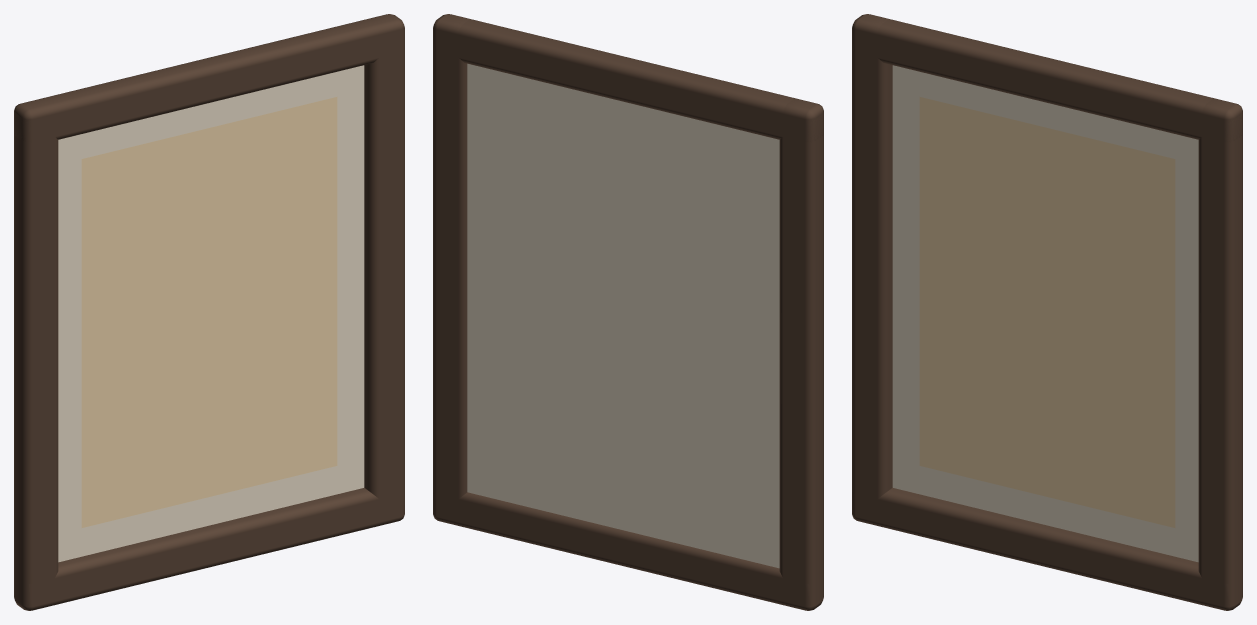
The model's file is frame.glb.
The picture shows the model from 3 angles, left to right: view 1: azimuth 30°, elevation 25°; view 2: azimuth 150°, elevation 25°; view 3: azimuth 330°, elevation 25°; orthographic projection.
Visible parts, largest first — view 1: frame; view 2: frame; view 3: frame.
Part boxes in pixels (box(x1,y1,x2,y2)): frame: box(14, 14, 404, 610); frame: box(433, 14, 823, 610); frame: box(852, 14, 1242, 610).
Bounding box in the file's own units: 0.6287 × 0.7887 × 0.0437.
